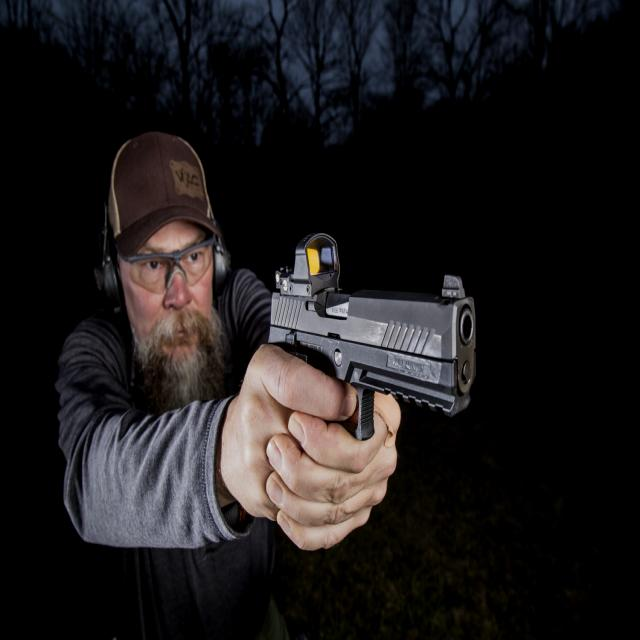pistol: (238, 218, 488, 452)
